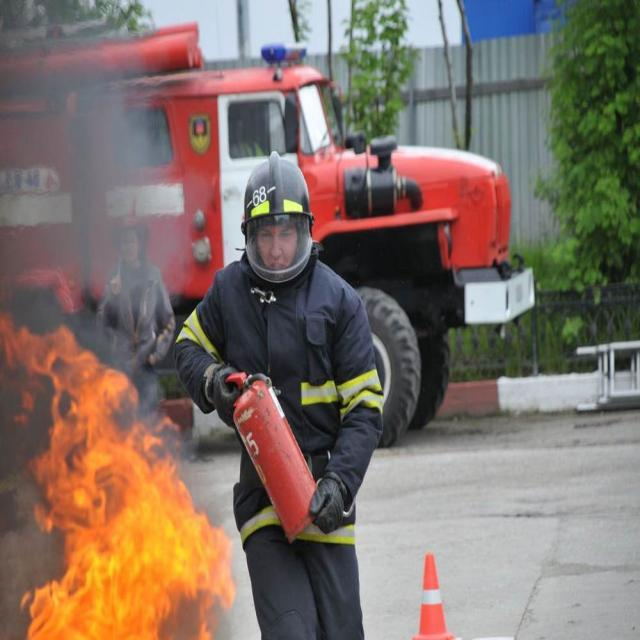Fire: (0, 321, 228, 640)
Smoke: (0, 21, 160, 359)
